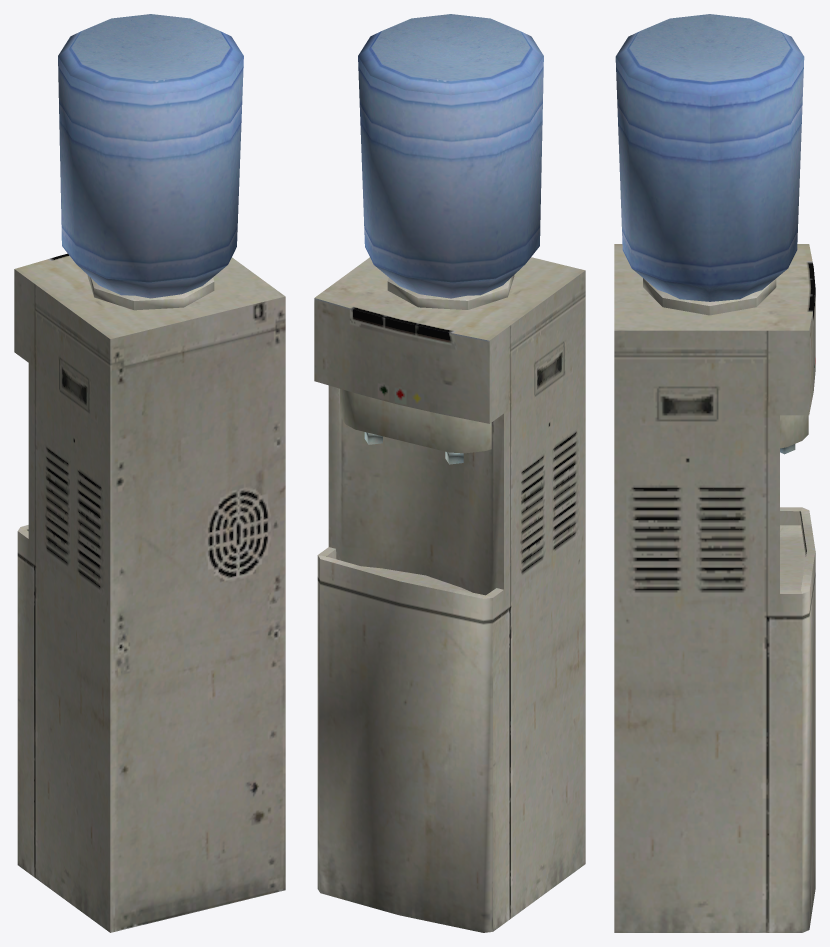
Rendered from Prop_Ysj.glb.
3 views of the same model, side by side, from view 1: azimuth 30°, elevation 25°; view 2: azimuth 150°, elevation 25°; view 3: azimuth 270°, elevation 25° (orthographic).
Parts seen in each view (by area): view 1: xiutz_ysj; view 2: xiutz_ysj; view 3: xiutz_ysj.
Boxes of the visible parts, x1,y1,x2,y2 form: xiutz_ysj: [14, 14, 285, 932]; xiutz_ysj: [314, 14, 585, 932]; xiutz_ysj: [614, 14, 815, 932].
Bounding box in the file's own units: 0.5657 × 2.56 × 0.5539.
Materials: 1 (1 with a texture image).
